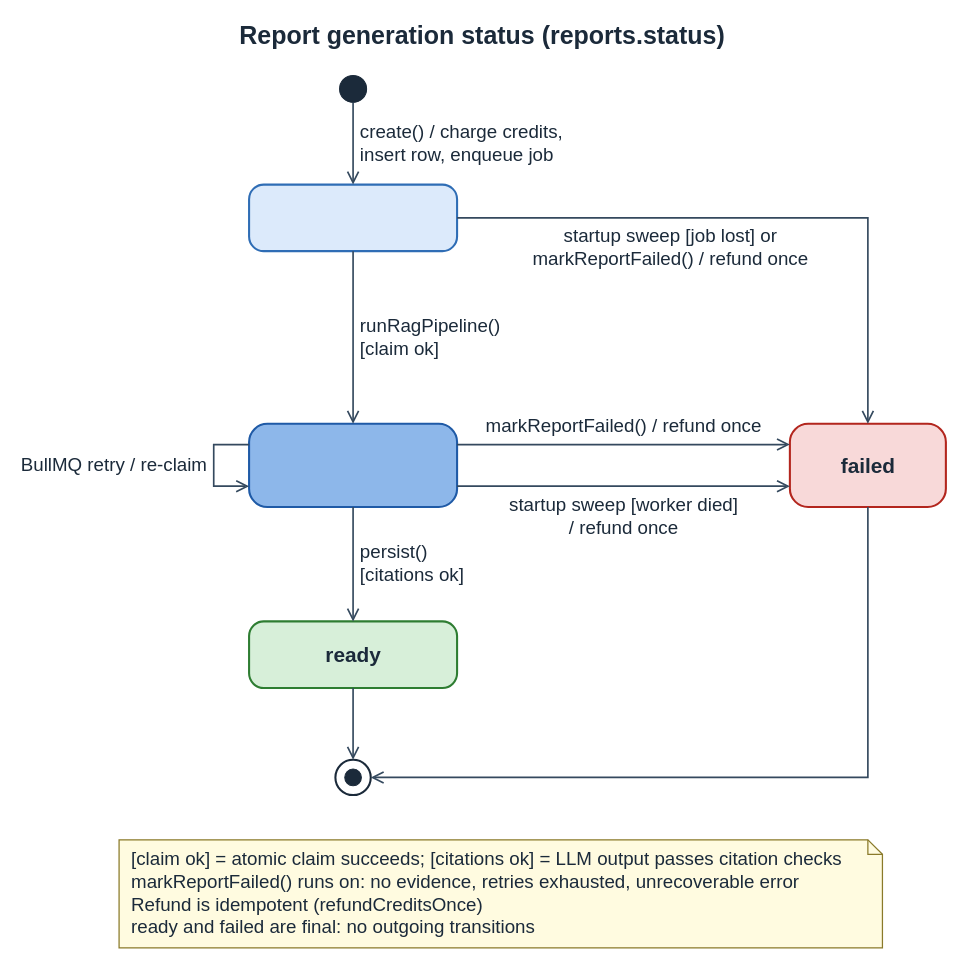
Image size: 964x966. Some labels were removed from this diagram. Here are the shapes that lost their labels. From the top down, the centre of each, then its label:
the point at 353,217: queued
the point at 353,465: generating
